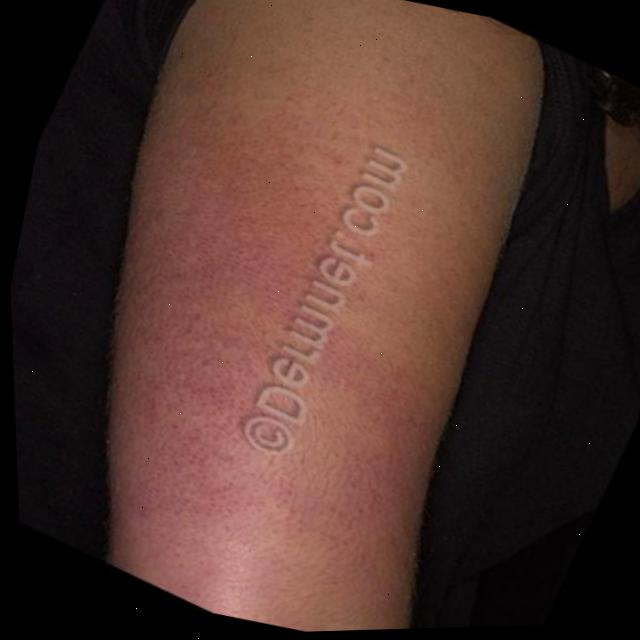Eczema: (86, 44, 442, 575)
